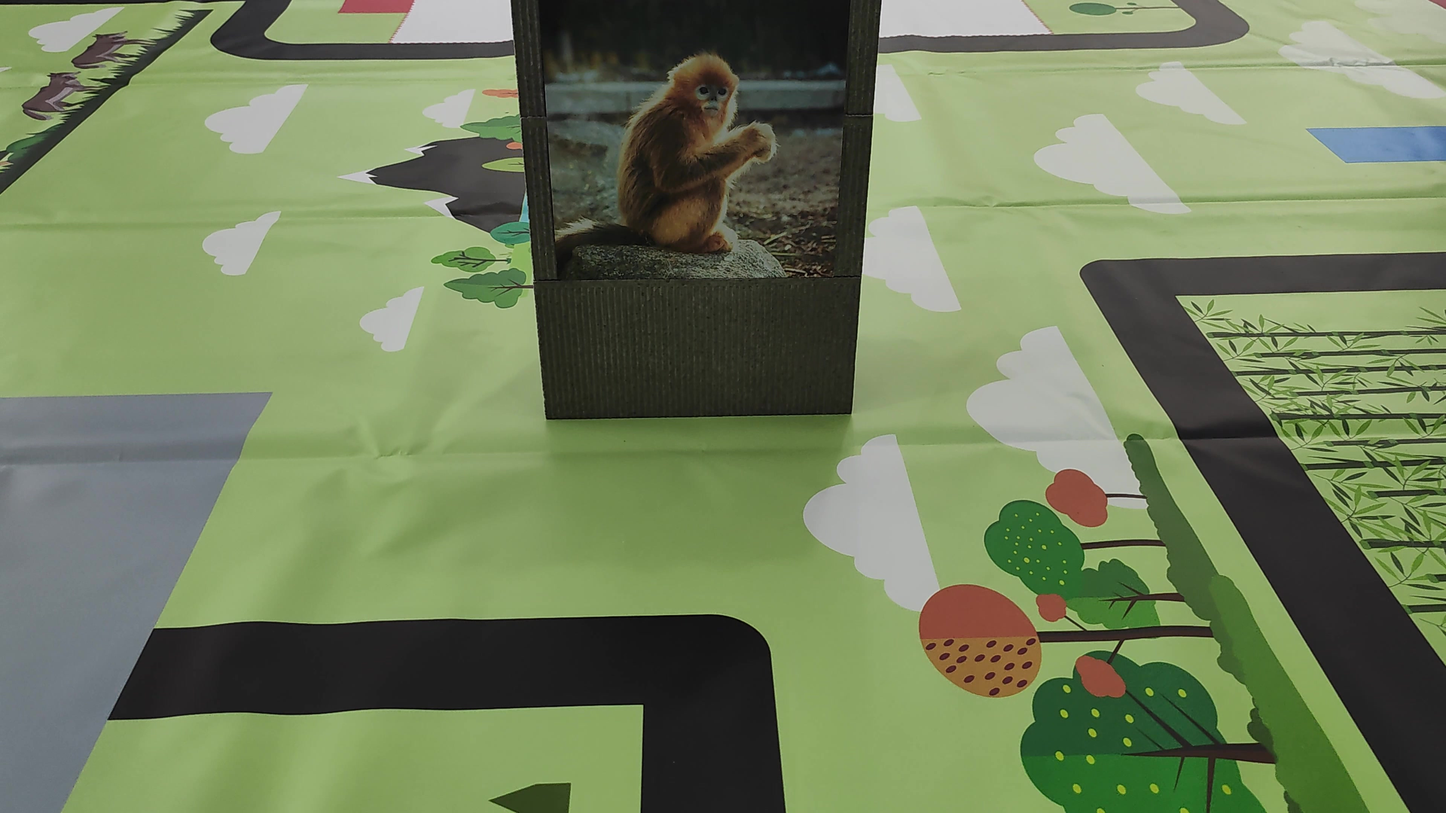monkey: (552, 32, 816, 276)
